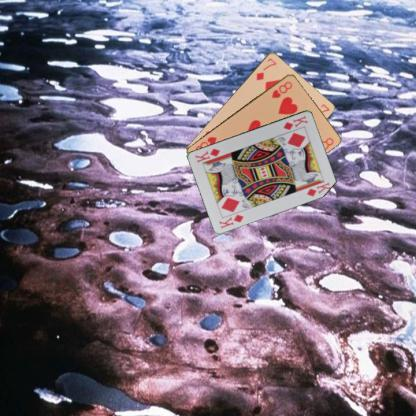7d: (254, 56, 278, 82)
8h: (269, 78, 294, 100)
Kd: (280, 113, 310, 132), (216, 211, 246, 230)
